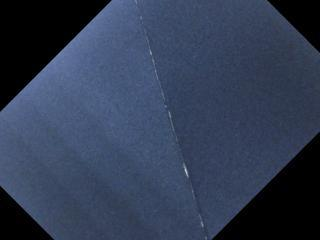crack: (134, 0, 209, 240)
